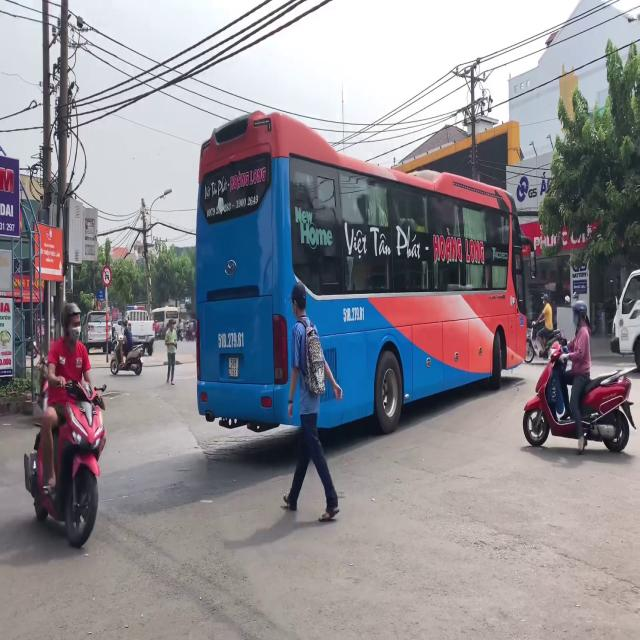bien_trang: (228, 357, 239, 377)
